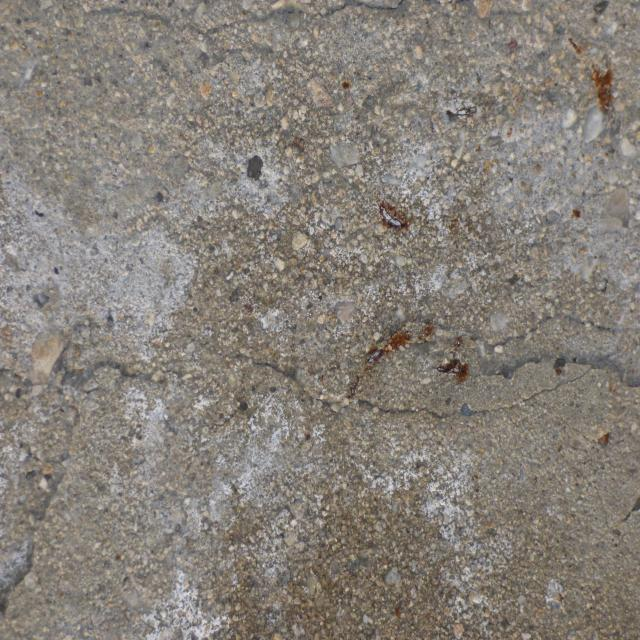corrosion: (345, 307, 479, 414), (368, 187, 424, 240), (584, 53, 622, 124)
